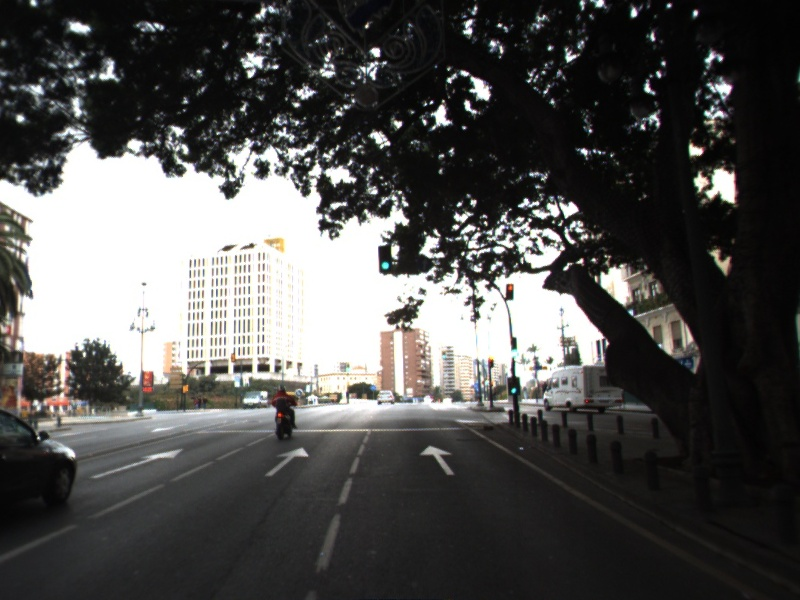STRAIGHT: (87, 446, 186, 480), (262, 444, 311, 478), (417, 443, 458, 477)
